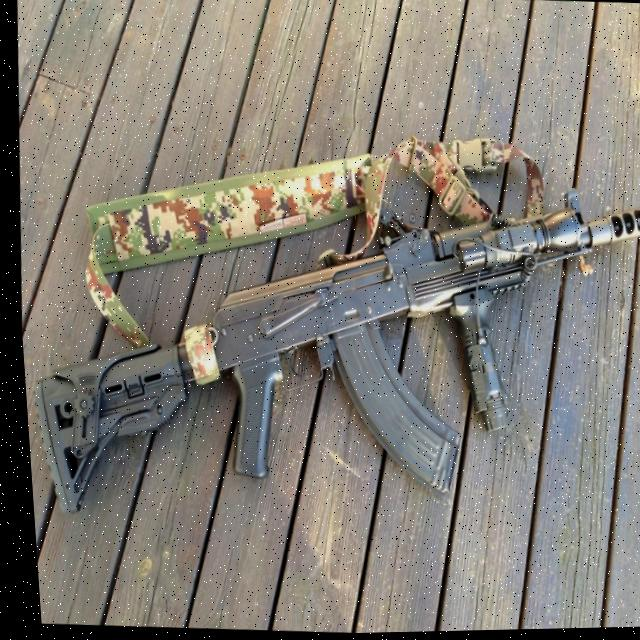firearm: (11, 162, 640, 545)
